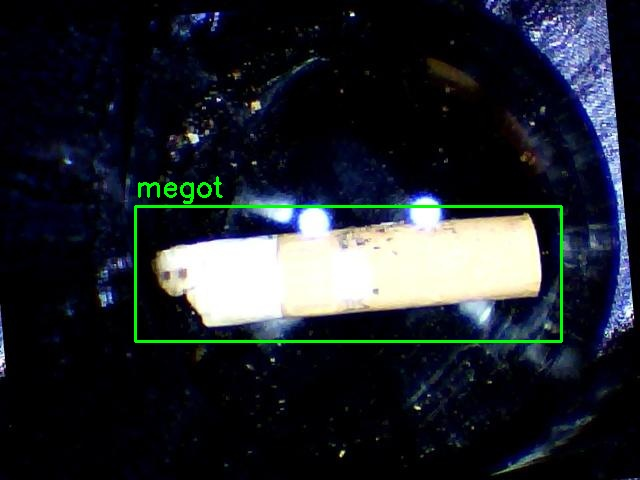megot: (135, 206, 561, 341)
